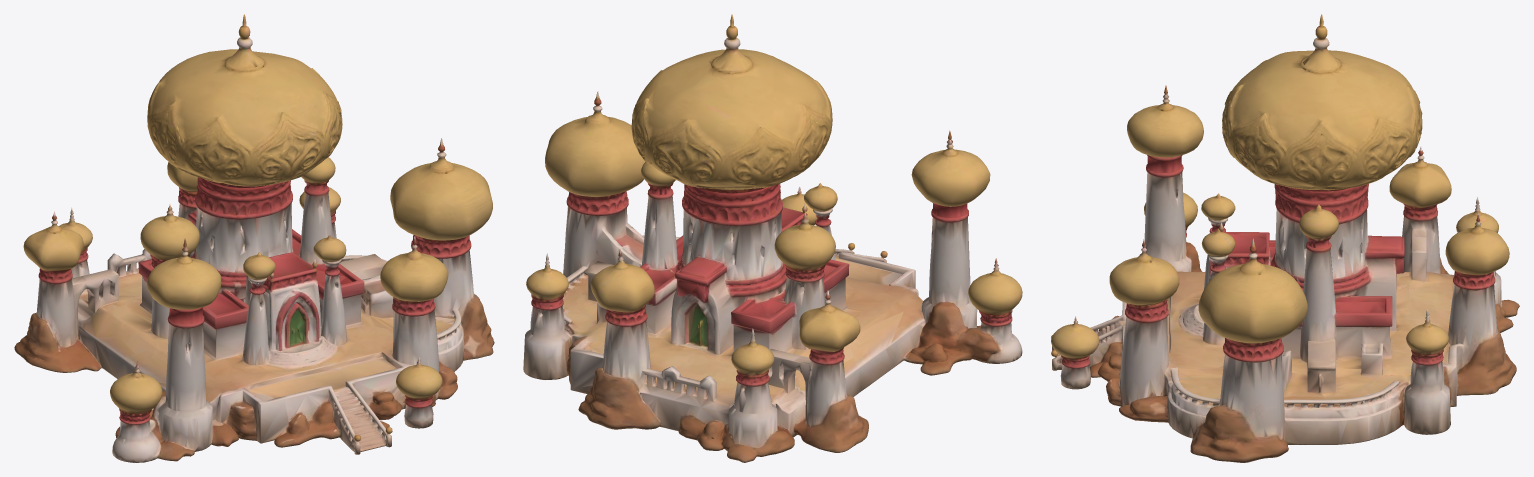
The model's file is Palace_of_the_Golden_.glb.
3 views of the same model, side by side, from view 1: azimuth 30°, elevation 25°; view 2: azimuth 150°, elevation 25°; view 3: azimuth 270°, elevation 25° (orthographic). The views are drawn at different scales.
Visible parts, largest first — view 1: Palace_of_the_Golden_; view 2: Palace_of_the_Golden_; view 3: Palace_of_the_Golden_.
Part boxes in pixels (bbox=[...]): Palace_of_the_Golden_: bbox=[14, 14, 494, 462]; Palace_of_the_Golden_: bbox=[523, 14, 1022, 462]; Palace_of_the_Golden_: bbox=[1051, 14, 1519, 462].
Size of the model in its own units: 1.9 by 1.49 by 1.81.
Materials: 1 (1 with a texture image).
